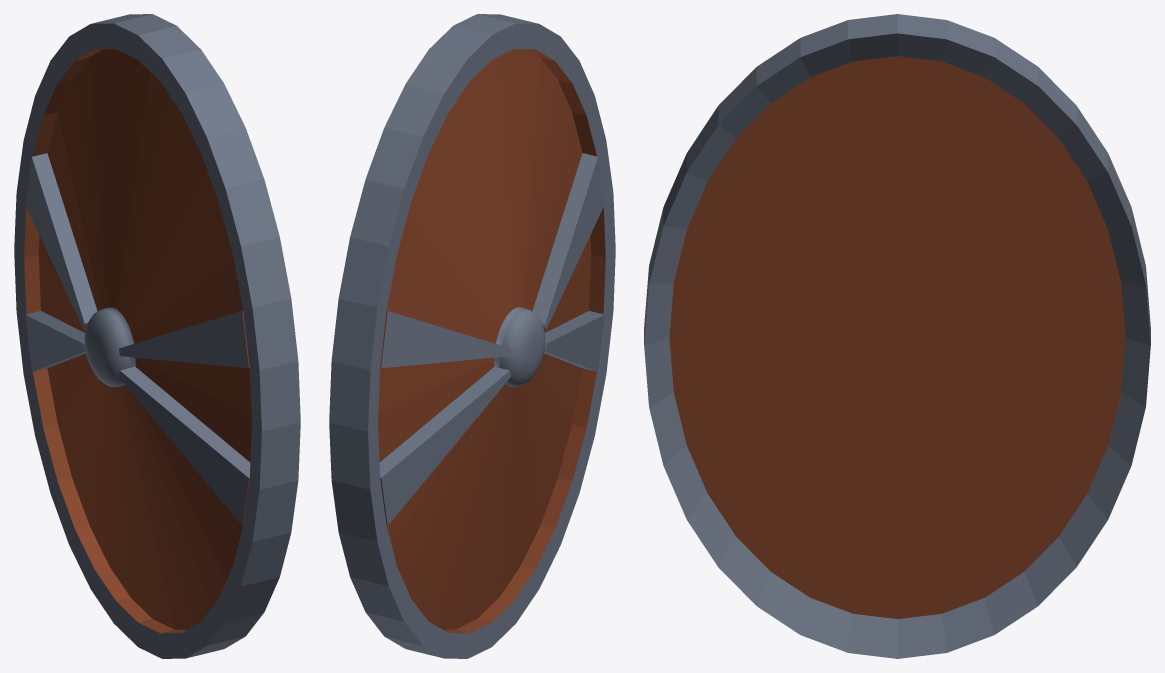
Rendered from sheild 1.fbx.
3 views of the same model, side by side, from view 1: azimuth 30°, elevation 25°; view 2: azimuth 150°, elevation 25°; view 3: azimuth 270°, elevation 25° (orthographic). The views are drawn at different scales.
Parts seen in each view (by area): view 1: Circle; view 2: Circle; view 3: Circle.
Part boxes in pixels (box(x1,y1,x2,y2)): Circle: box(14, 14, 300, 658); Circle: box(329, 14, 615, 658); Circle: box(644, 14, 1150, 658).
Size of the model in its own units: 0.6104 by 3.23 by 4.4.
